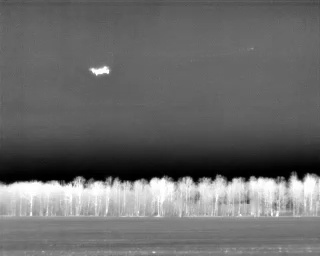DRONE: (87, 61, 115, 80)
